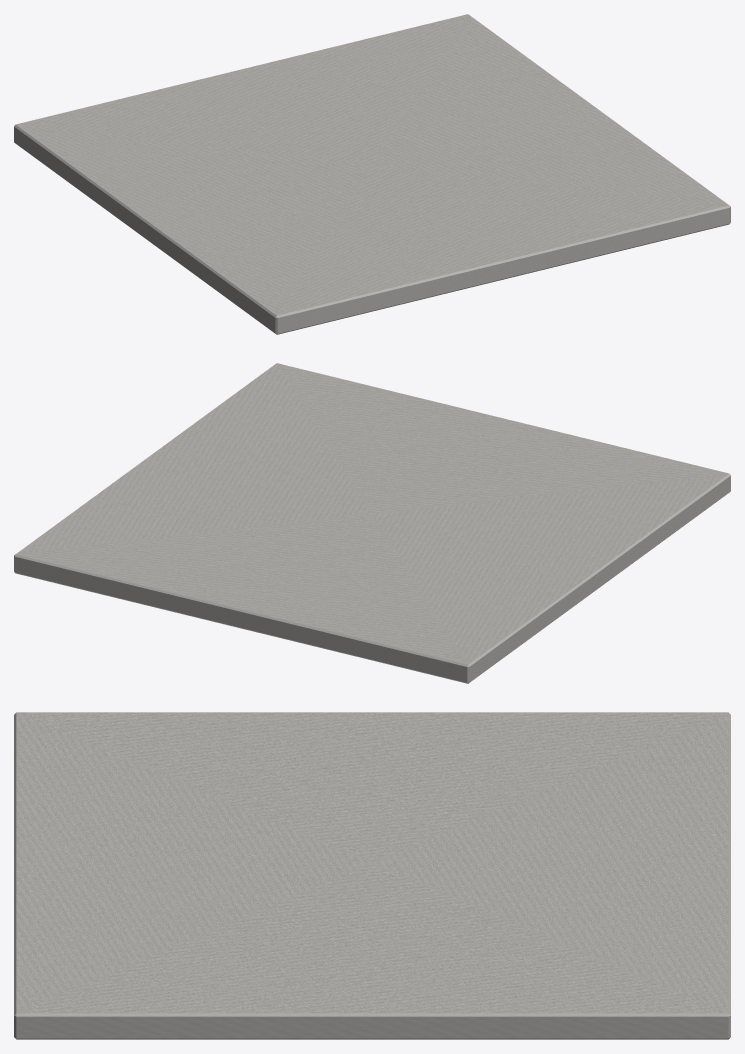
Rendered from japanese-school-and-city-street-floor-slab-3m-816e7423__30051.glb.
The picture shows the model from 3 angles, top to bottom: view 1: azimuth 30°, elevation 25°; view 2: azimuth 150°, elevation 25°; view 3: azimuth 270°, elevation 25°; orthographic projection. The views are drawn at different scales.
Parts seen in each view (by area): view 1: floor-slab-3m; view 2: floor-slab-3m; view 3: floor-slab-3m.
Part boxes in pixels (left/top/right/bottom): floor-slab-3m: left=14, top=14, right=730, bottom=334; floor-slab-3m: left=14, top=363, right=730, bottom=683; floor-slab-3m: left=14, top=712, right=730, bottom=1039.
Bounding box in the file's own units: 3 × 0.1201 × 3.
Materials: 2 (2 with a texture image).
